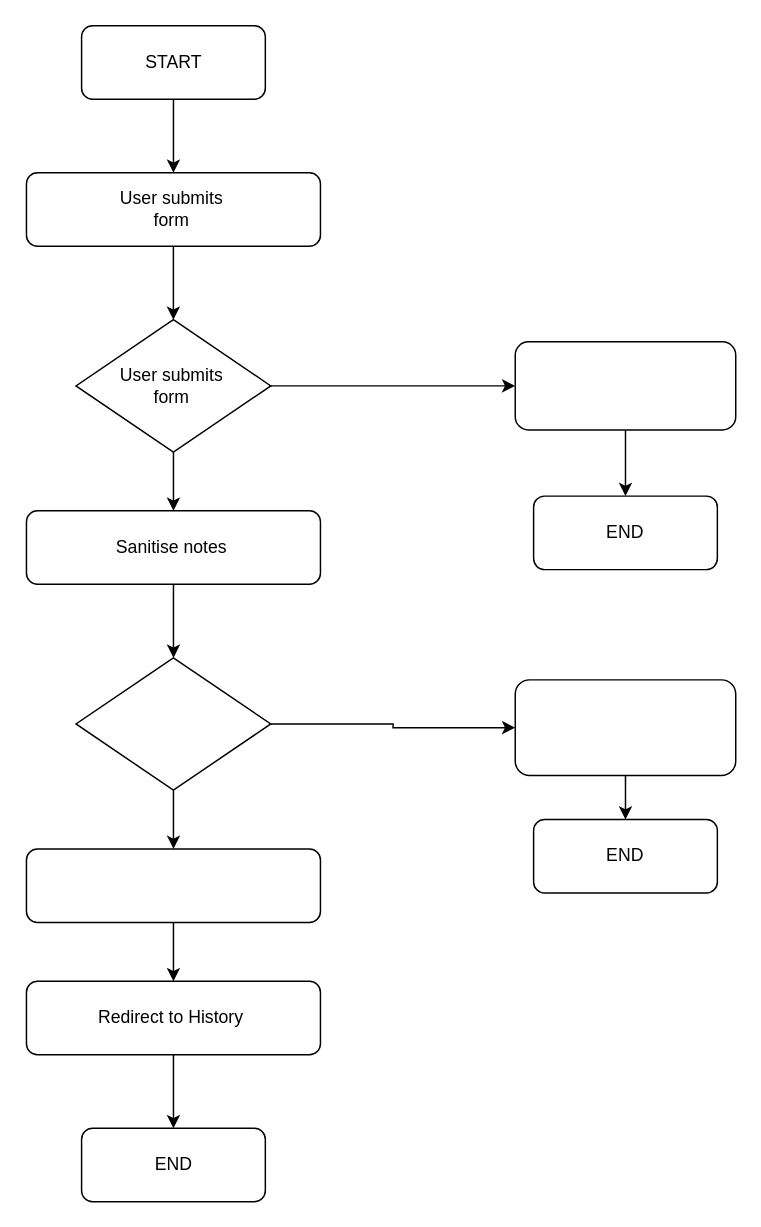
This 761x1227 diagram has some shape labels left out. Here are the shapes that lost their labels. From the top down, the centre of each, then its label:
At point 625,385: "Re-render form with errors".
At point 173,723: "Wake_time > Bedtime?".
At point 625,726: "Show Validation error".
At point 172,884: "Save Sleep Entry to DB".
